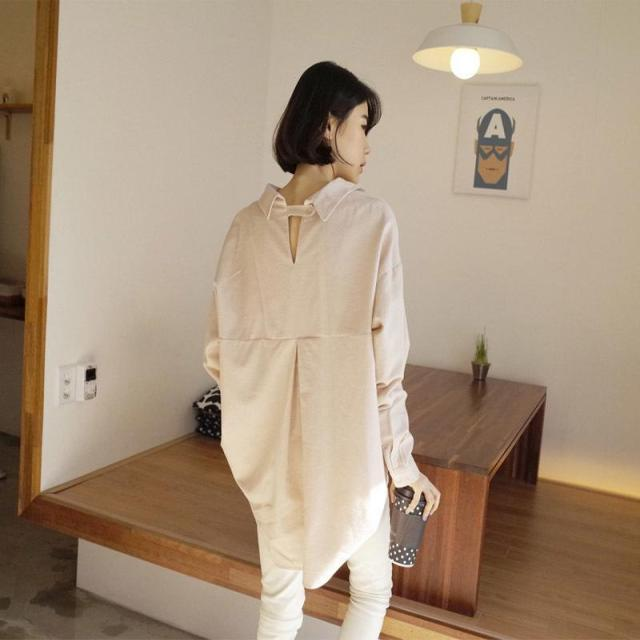long-sleeve-top: (204, 186, 422, 586)
